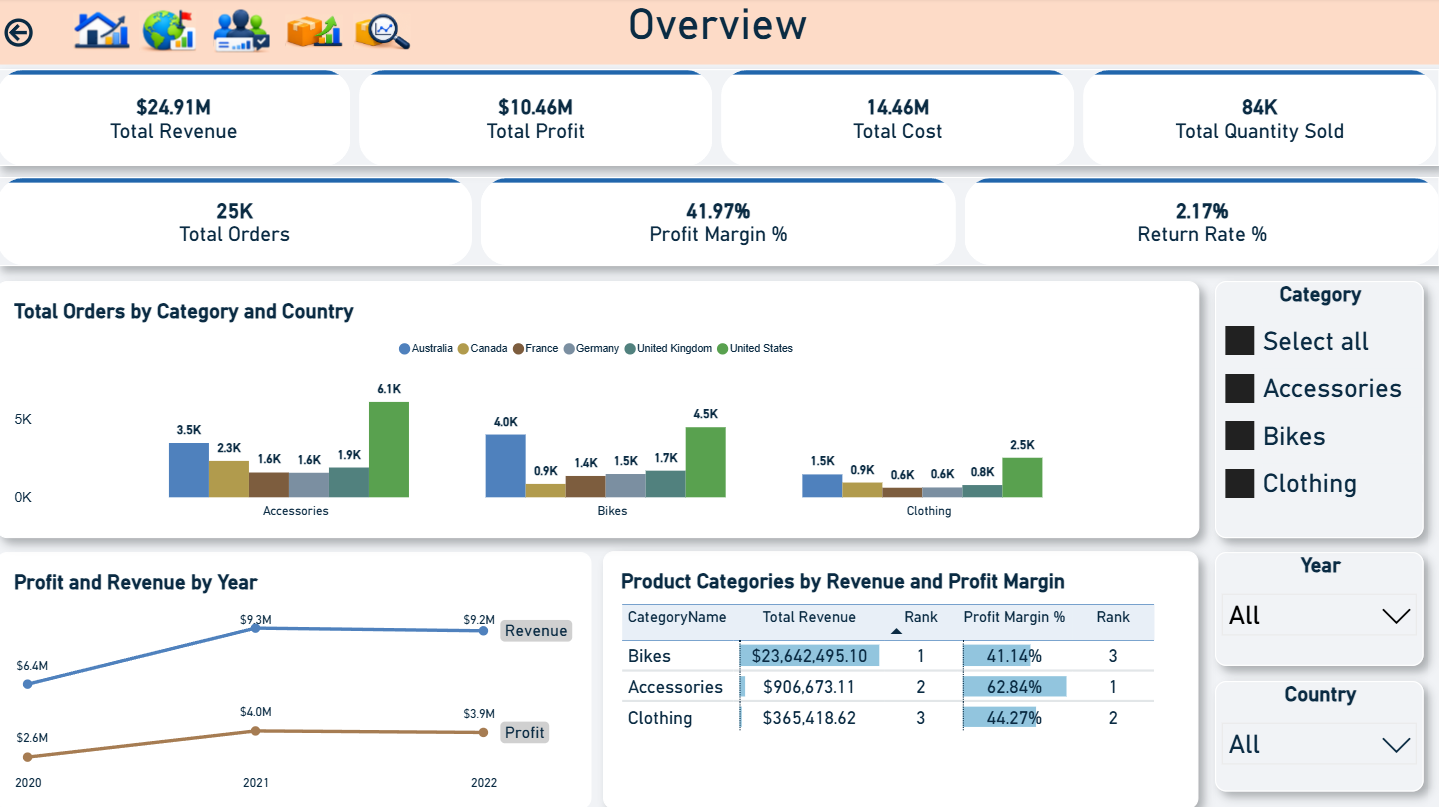

This screenshot's page, from the dashboard's own definition file:
{"tool":"powerbi","page":{"name":"Executive Overview","canvas":[1280,720],"ordinal":1},"visuals":[{"type":"tableEx","title":"Product Categories by Revenue and Profit Margin ","fields":{"Values":["Dim Product.CategoryName","Measure Table.Total Revenue","Measure Table.Revenue Top to Bottom with Category Rank","Measure Table.Profit Margin %","Measure Table.Profit Margin Category Rank"]},"box":[538.2,490.3,528.5,228.8],"z":0},{"type":"cardVisual","fields":{"Data":["Measure Table.Total Revenue","Measure Table.Total Profit","Measure Table.Total Cost","Measure Table.Total Quantity Sold"]},"box":[0,63,1280.4,86],"z":1000},{"type":"textbox","box":[0,0,1280.4,50.5],"z":2000},{"type":"group","id":"g1","title":"Group 2","box":[0,0,1280.4,58.5],"z":2000,"group":"g2"},{"type":"lineChart","fields":{"Category":["Dim_Date.Year"],"Y":["Measure Table.Total Profit","Measure Table.Total Revenue"]},"box":[0,491.6,527.9,228.1],"z":3000},{"type":"actionButton","box":[312.7,0,63.5,58.8],"z":3125,"group":"g3"},{"type":"actionButton","box":[123.3,0,58.5,58.5],"z":3250,"group":"g3"},{"type":"actionButton","box":[64.5,0,58.5,58.5],"z":3500,"group":"g3"},{"type":"actionButton","box":[188.5,0,64.5,58.5],"z":4000,"group":"g3"},{"type":"clusteredColumnChart","fields":{"Category":["Dim Product.CategoryName"],"Series":["Dim Territory.Country"],"Y":["Measure Table.Total Orders"]},"box":[0,251.4,1067,228.1],"z":4000},{"type":"actionButton","box":[252.7,0,64.6,58.8],"z":4500,"group":"g3"},{"type":"actionButton","box":[0,11,54.9,39.9],"z":5000,"group":"g3"},{"type":"slicer","title":"Year","fields":{"Values":["Dim_Date.Year"]},"box":[1080.9,491.2,185.3,101.1],"z":5000},{"type":"cardVisual","fields":{"Data":["Measure Table.Total Orders","Measure Table.Profit Margin %","Measure Table.Return Rate %"]},"box":[0,158.7,1280.4,78.9],"z":6000},{"type":"slicer","title":"Country","fields":{"Values":["Dim Territory.Country"]},"box":[1080.9,605.6,185.3,97.5],"z":7000},{"type":"group","id":"g2","title":"Group 1","box":[0,0,1280.4,58.8],"z":8000},{"type":"slicer","title":"Category","fields":{"Values":["Dim Product.CategoryName"]},"box":[1080.9,250.9,185.3,227.9],"z":9000},{"type":"textbox","box":[0,0,1280.4,58.5],"z":12000,"group":"g1"},{"type":"group","id":"g3","title":"Group 3","box":[0,0,376.1,58.8],"z":14002,"group":"g2"}]}

Visuals, with their boxes in screenshot pixels (x1, y1, x2, y2), scaled from the page's 1280x720 canvas onto the 1439x807 screenshot:
"Product Categories by Revenue and Profit Margin " tableEx: locate(605, 550, 1199, 806)
cardVisual - Measure Table.Total Revenue x Measure Table.Total Profit: locate(0, 71, 1438, 167)
textbox: locate(0, 0, 1438, 57)
"Group 2" group: locate(0, 0, 1438, 66)
lineChart - Dim_Date.Year x Measure Table.Total Profit: locate(0, 551, 593, 806)
actionButton: locate(352, 0, 423, 66)
actionButton: locate(139, 0, 204, 66)
actionButton: locate(73, 0, 138, 66)
actionButton: locate(212, 0, 284, 66)
clusteredColumnChart - Dim Product.CategoryName x Dim Territory.Country: locate(0, 282, 1200, 537)
actionButton: locate(284, 0, 357, 66)
actionButton: locate(0, 12, 62, 57)
"Year" slicer: locate(1215, 551, 1423, 664)
cardVisual - Measure Table.Total Orders x Measure Table.Profit Margin %: locate(0, 178, 1438, 266)
"Country" slicer: locate(1215, 679, 1423, 788)
"Group 1" group: locate(0, 0, 1438, 66)
"Category" slicer: locate(1215, 281, 1423, 537)
textbox: locate(0, 0, 1438, 66)
"Group 3" group: locate(0, 0, 423, 66)
